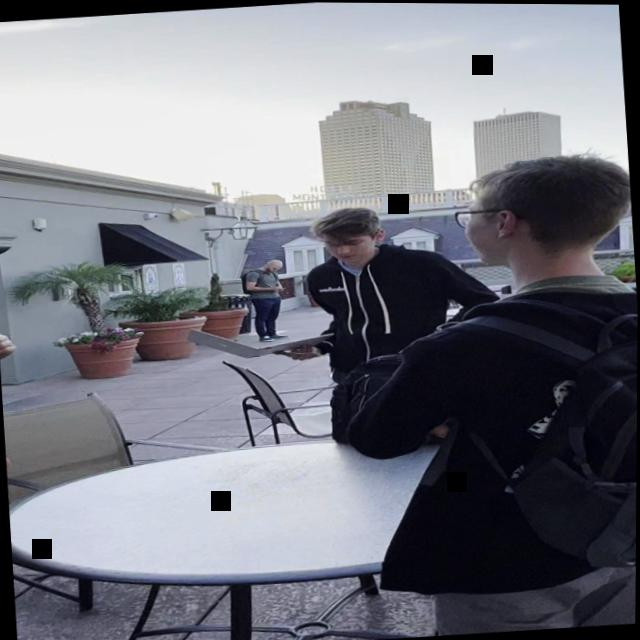NO-Mask: (458, 193, 500, 261), (325, 231, 379, 262), (264, 261, 282, 273)
